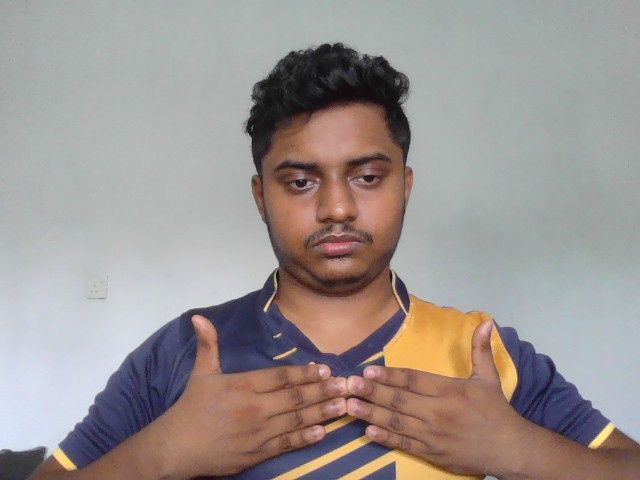Thank You: (175, 307, 518, 480)
